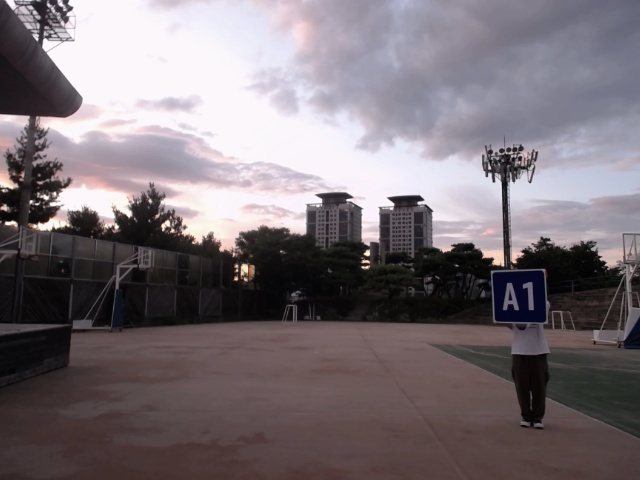delivery_a1: (491, 270, 548, 324)
